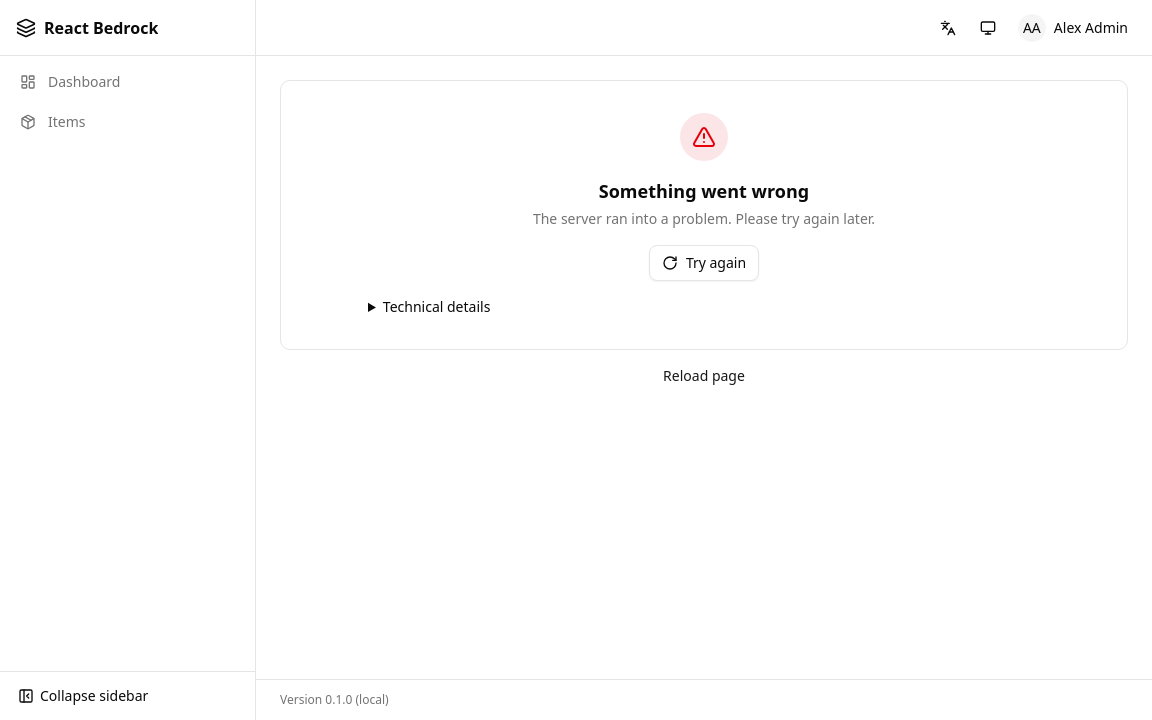
Scenario: errors on a page inside the app shell › offers Try again for a failed suspense query, keeps the shell and recovers when the API answers
Check: the header is shown, box [256,0,1151,56]
Check: the navigation bar named "Main navigation" is shown, box [20,72,120,131]
Click the button "Try again".
click(704, 263)  # box [649,245,759,281]
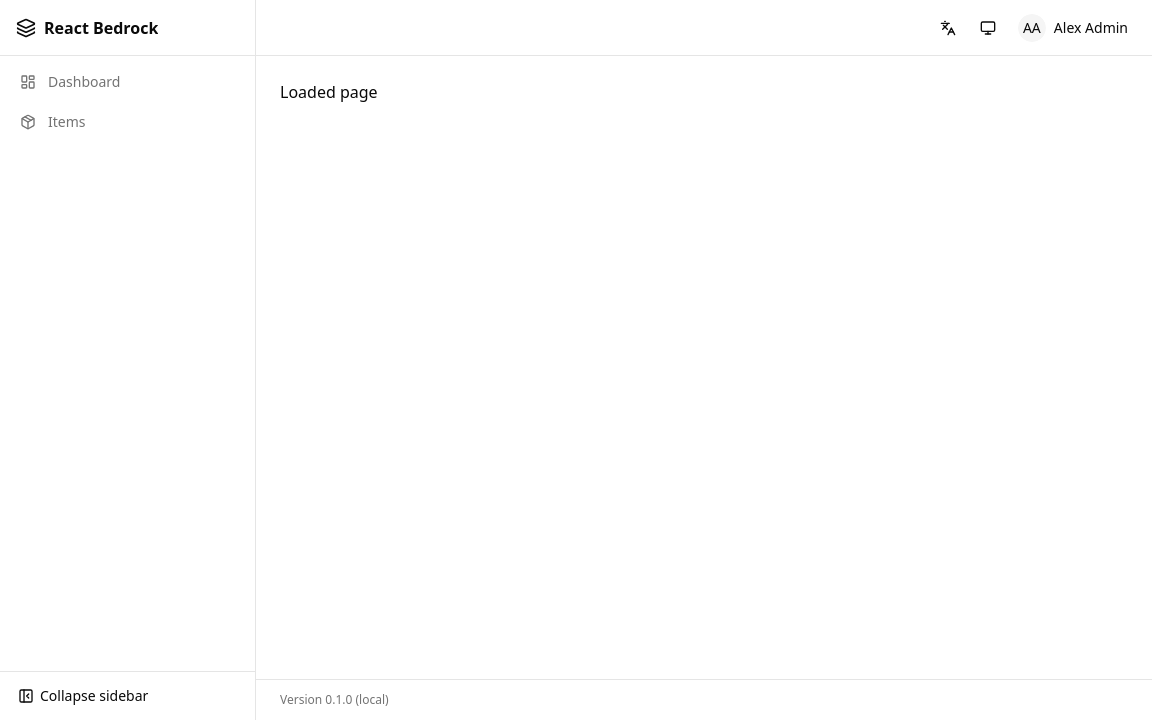
Check: the header is shown, box [256,0,1151,56]
Check: the heading "Loaded page" is shown, box [280,81,378,103]
Check: the message "Something went wrong The server ran into a problem. Please try again later. Try" is gone
